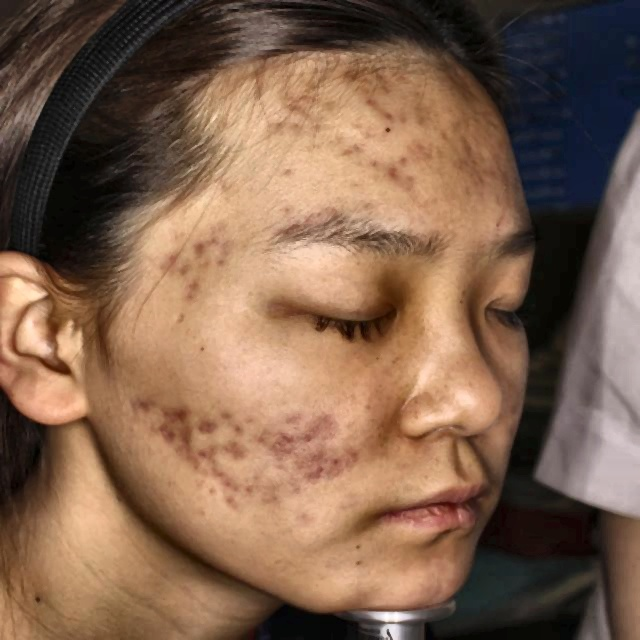papule: (176, 270, 212, 312), (324, 131, 364, 160), (385, 153, 418, 187), (453, 124, 481, 160), (172, 422, 207, 450), (363, 65, 394, 96), (260, 427, 292, 455), (138, 248, 175, 272), (148, 426, 182, 451), (357, 99, 392, 123), (303, 82, 333, 109), (295, 418, 319, 451), (339, 62, 369, 88), (190, 240, 222, 264), (300, 456, 326, 484), (328, 454, 357, 479), (194, 414, 221, 437), (166, 259, 197, 279), (227, 412, 256, 432), (489, 204, 508, 232), (220, 495, 242, 516), (167, 404, 188, 422), (366, 150, 383, 171), (131, 398, 150, 416), (204, 459, 224, 476), (286, 93, 301, 112), (221, 471, 240, 486), (192, 451, 212, 465), (224, 438, 240, 454)
